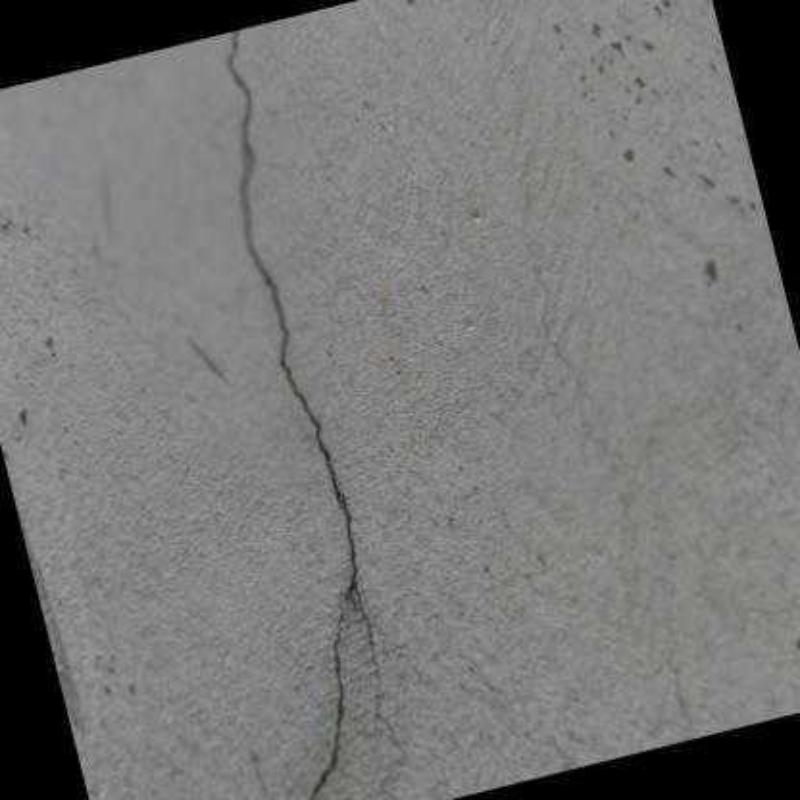pothole: (218, 26, 361, 800)
